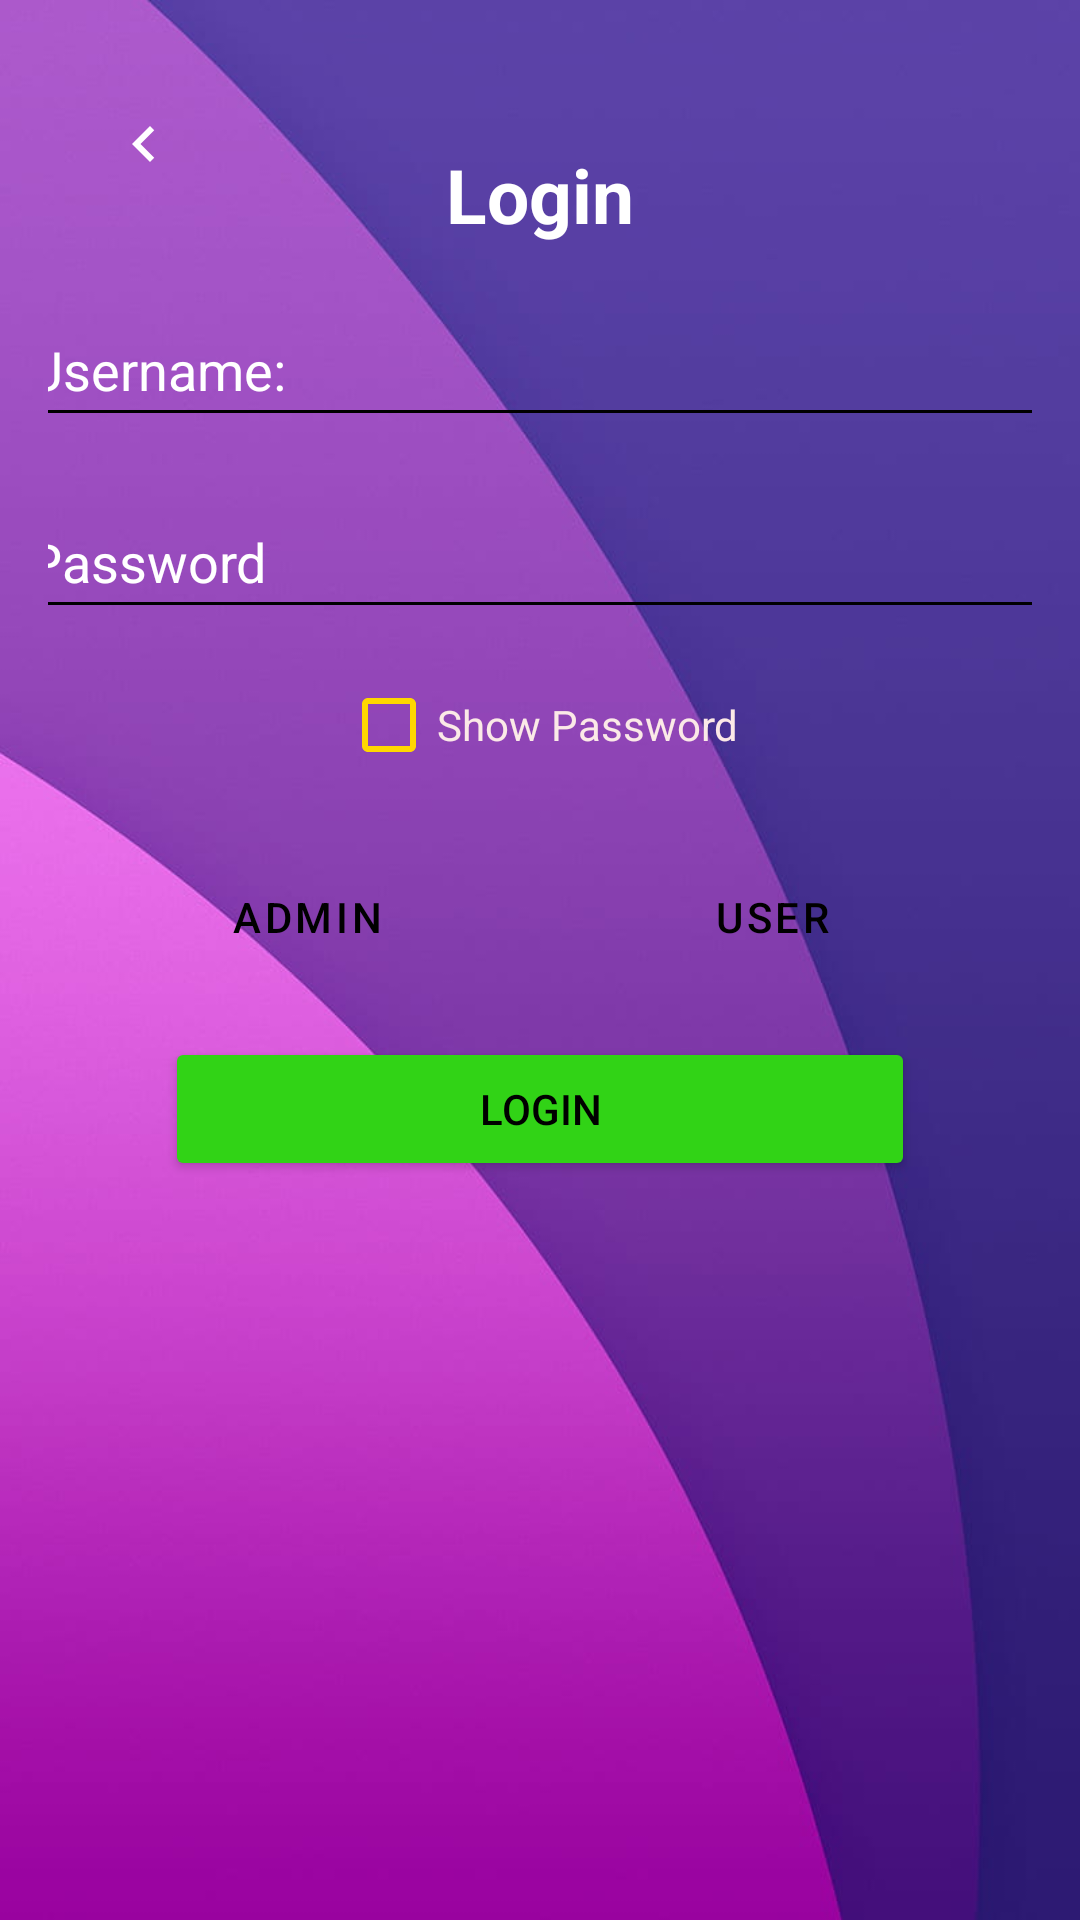

Named icons in this screenshot (1080*1920) and their bounding boxes, (x1, y1, x2, y2):
Back: (132, 126, 154, 162)
